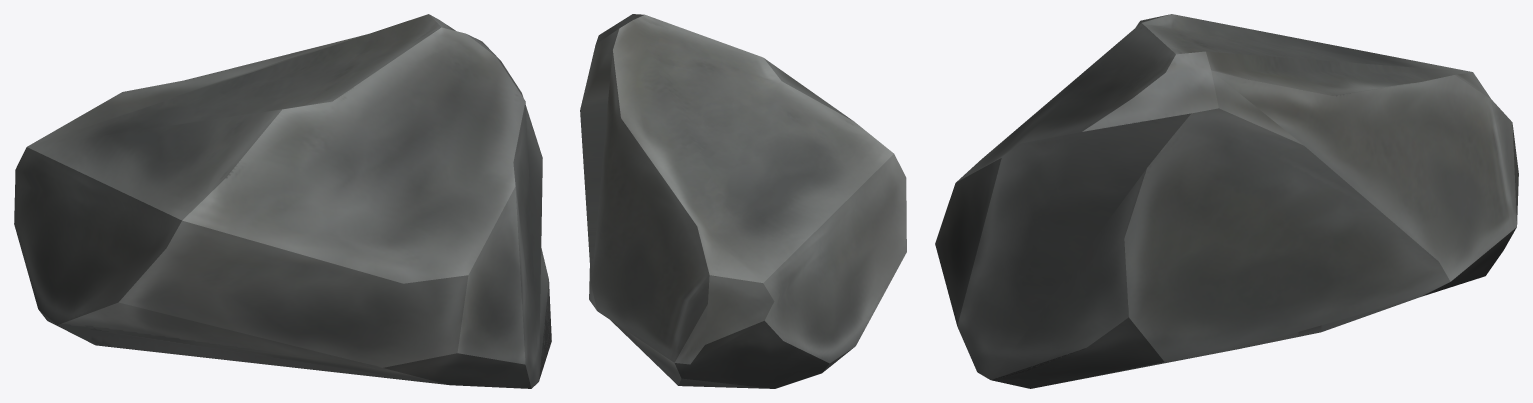
The model's file is stone1.fbx.
3 renders of one model, left to right at view 1: azimuth 30°, elevation 25°; view 2: azimuth 150°, elevation 25°; view 3: azimuth 270°, elevation 25°, orthographic. The views are drawn at different scales.
Parts seen in each view (by area): view 1: Sphere; view 2: Sphere; view 3: Sphere.
Boxes of the visible parts, left/top/right/bottom form: Sphere: left=14, top=14, right=551, bottom=388; Sphere: left=580, top=14, right=906, bottom=388; Sphere: left=935, top=14, right=1518, bottom=388.
Size of the model in its own units: 87.32 by 63.07 by 103.
